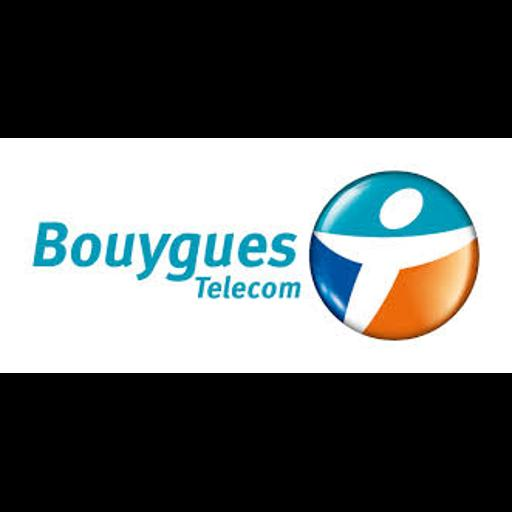Bouygues Telecom: (0, 138, 512, 373)
